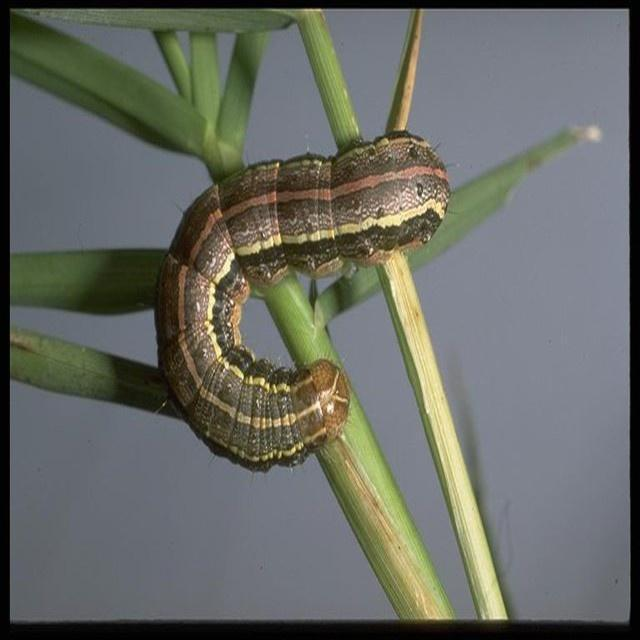gusano_cogollero: (148, 123, 454, 479)
